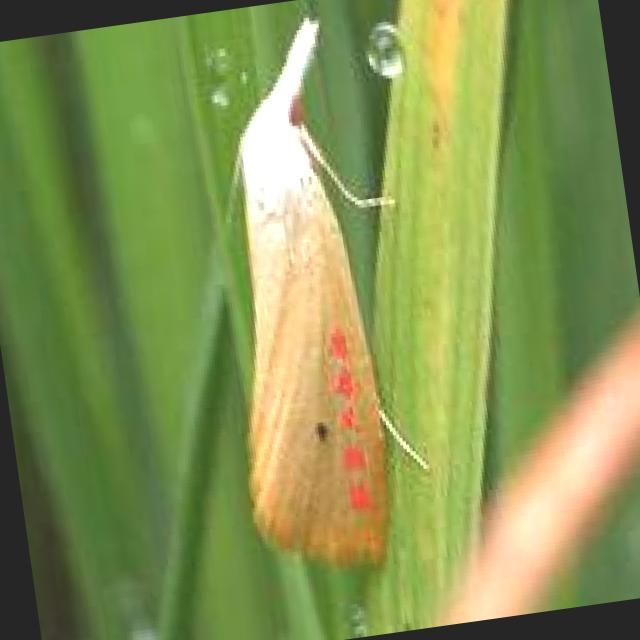stem borer: (236, 18, 428, 563)
